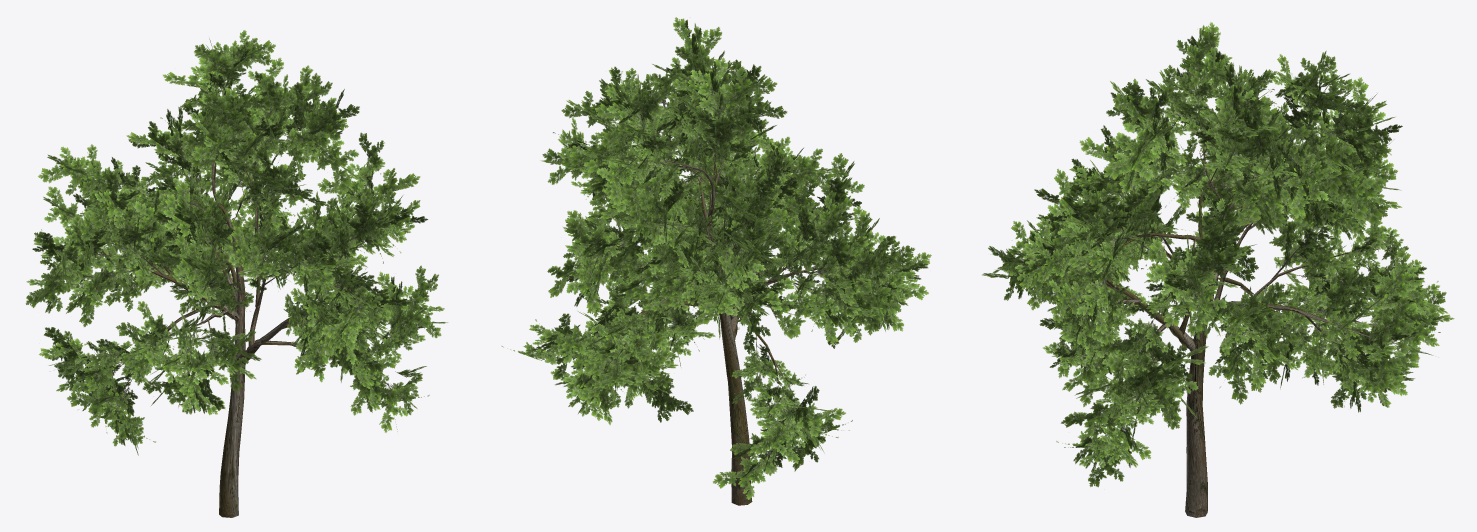
Rendered from Tree_Medium_B.glb.
3 renders of one model, left to right at view 1: azimuth 30°, elevation 25°; view 2: azimuth 150°, elevation 25°; view 3: azimuth 270°, elevation 25°, orthographic. The views are drawn at different scales.
Visible parts, largest first — view 1: Tree_Medium_B; view 2: Tree_Medium_B; view 3: Tree_Medium_B.
Part boxes in pixels (<box>): Tree_Medium_B: <box>25,30,448,517</box>; Tree_Medium_B: <box>501,17,931,505</box>; Tree_Medium_B: <box>982,22,1454,517</box>.
Size of the model in its own units: 4.55 by 5 by 4.5.
Materials: 2 (2 with a texture image).
